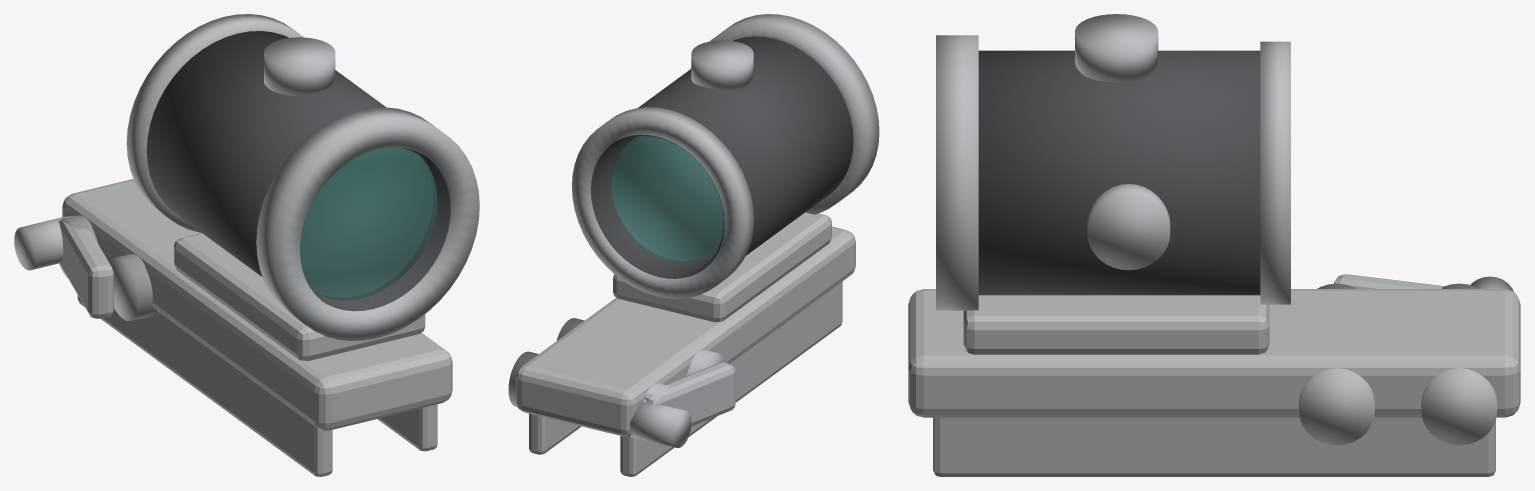
File: M4_RedDotSight.fbx
3 renders of one model, left to right at view 1: azimuth 30°, elevation 25°; view 2: azimuth 150°, elevation 25°; view 3: azimuth 270°, elevation 25°, orthographic. The views are drawn at different scales.
Parts seen in each view (by area): view 1: RedDotSight; view 2: RedDotSight; view 3: RedDotSight.
Part boxes in pixels (<box>): RedDotSight: <box>14,14,479,476</box>; RedDotSight: <box>508,14,879,476</box>; RedDotSight: <box>908,14,1520,476</box>.
Bounding box in the file's own units: 4.8 × 7.45 × 10.
